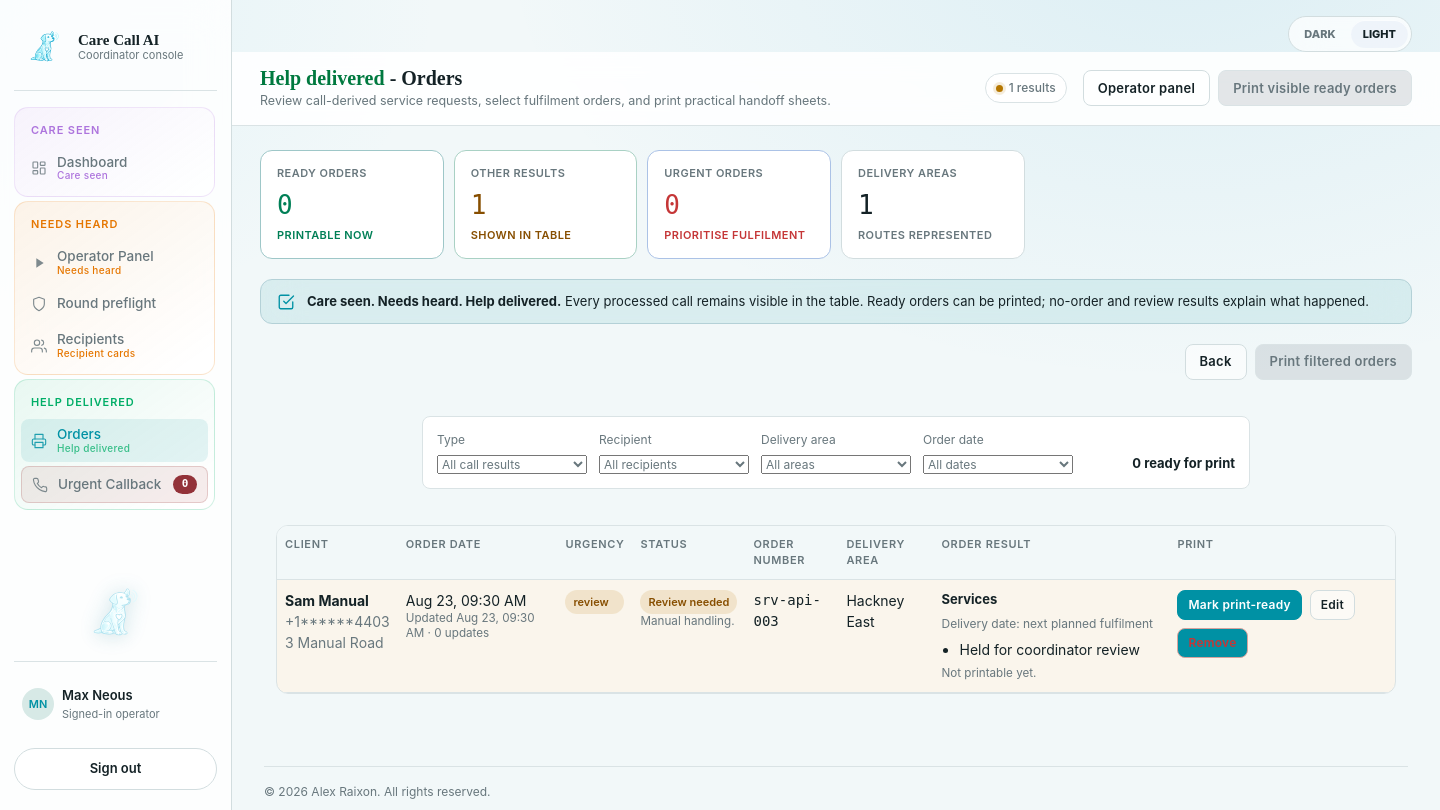
Test: PrintableOrderSheet › lets an operator remove a held result from the fulfilment table
Step 1. Click the button "Remove" → click(1212, 643), box [1178,628,1248,658]
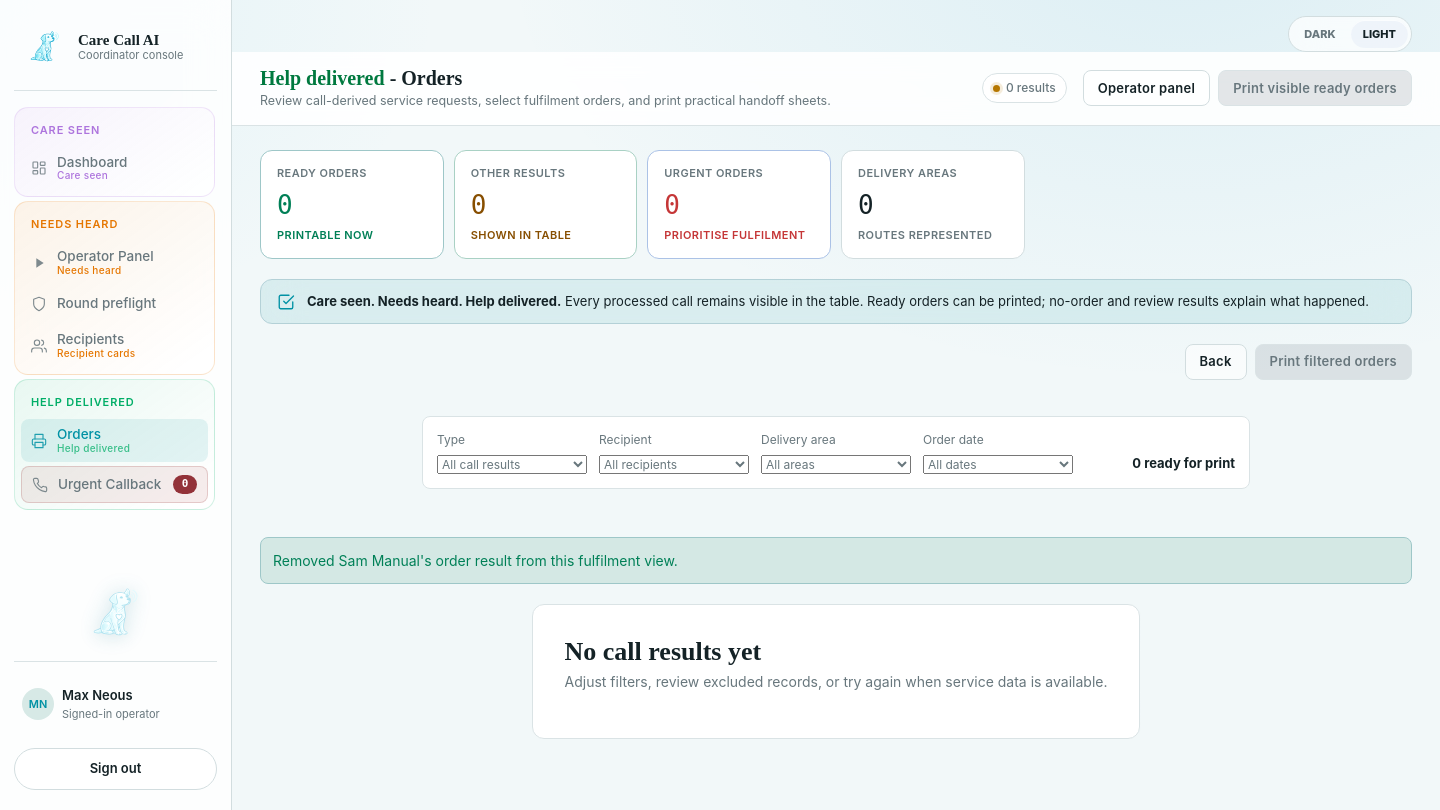
Expected: the text "Removed Sam Manual's order result from this fulfilment view." is shown, [260,537,1412,584]
Expected: the text "srv-api-003" is gone
